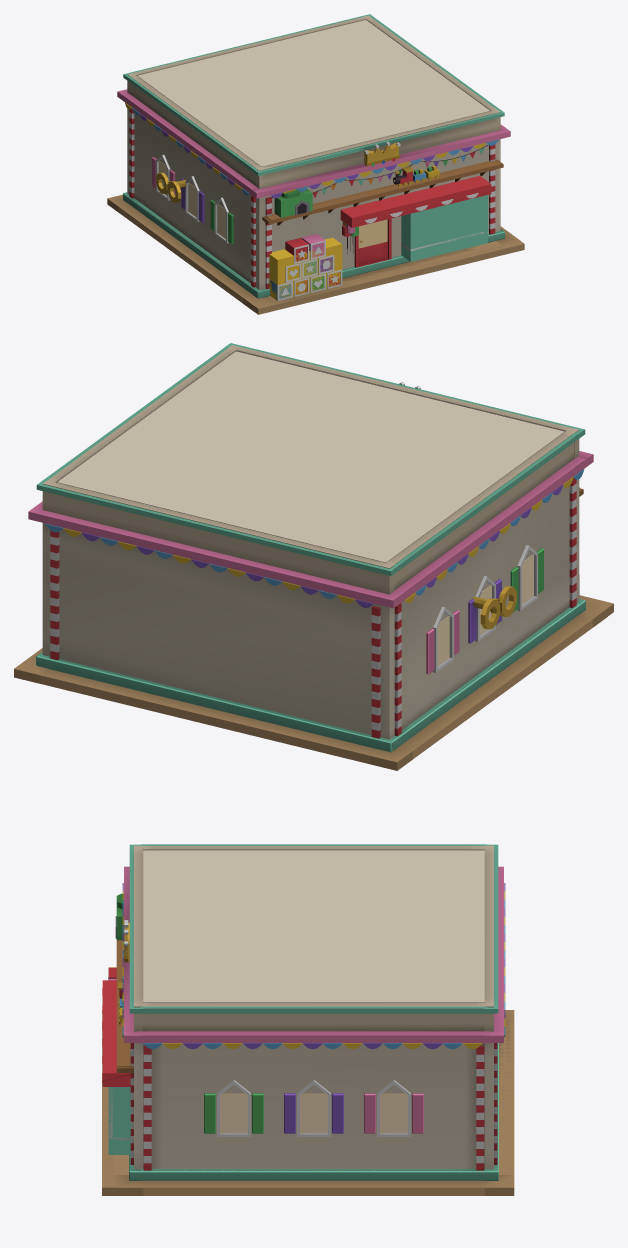
The model's file is RoyalRatTrainFloor.fbx.
3 renders of one model, top to bottom at view 1: azimuth 30°, elevation 25°; view 2: azimuth 150°, elevation 25°; view 3: azimuth 270°, elevation 25°, orthographic. The views are drawn at different scales.
Visible parts, largest first — view 1: TS_S_All, TS_F_Rings, TS_F_Smooth, TS_F_Quiet, TS_F_Props, TS_F_Glass; view 2: TS_F_Rings, TS_S_All, TS_F_Smooth, TS_F_Quiet, TS_F_Glass, TS_F_Props; view 3: TS_S_All, TS_F_Rings, TS_F_Smooth, TS_F_Quiet, TS_F_Glass, TS_F_Props.
Boxes of the visible parts, x1,y1,x2,y2 form: TS_S_All: (108,20,520,303); TS_F_Rings: (118,15,509,289); TS_F_Smooth: (107,14,524,314); TS_F_Quiet: (108,14,524,308); TS_F_Props: (156,168,439,300); TS_F_Glass: (159,161,395,248); TS_F_Rings: (29,345,592,739); TS_S_All: (14,351,607,770); TS_F_Smooth: (14,343,613,770); TS_F_Quiet: (14,343,613,761); TS_F_Glass: (437,554,533,665); TS_F_Props: (480,586,516,629); TS_S_All: (102,850,514,1195); TS_F_Rings: (116,845,503,1170); TS_F_Smooth: (102,883,513,1195); TS_F_Quiet: (102,844,513,1187); TS_F_Glass: (220,1093,407,1133); TS_F_Props: (108,893,123,1022).
Bounding box in the file's own units: 60 × 20 × 60.
